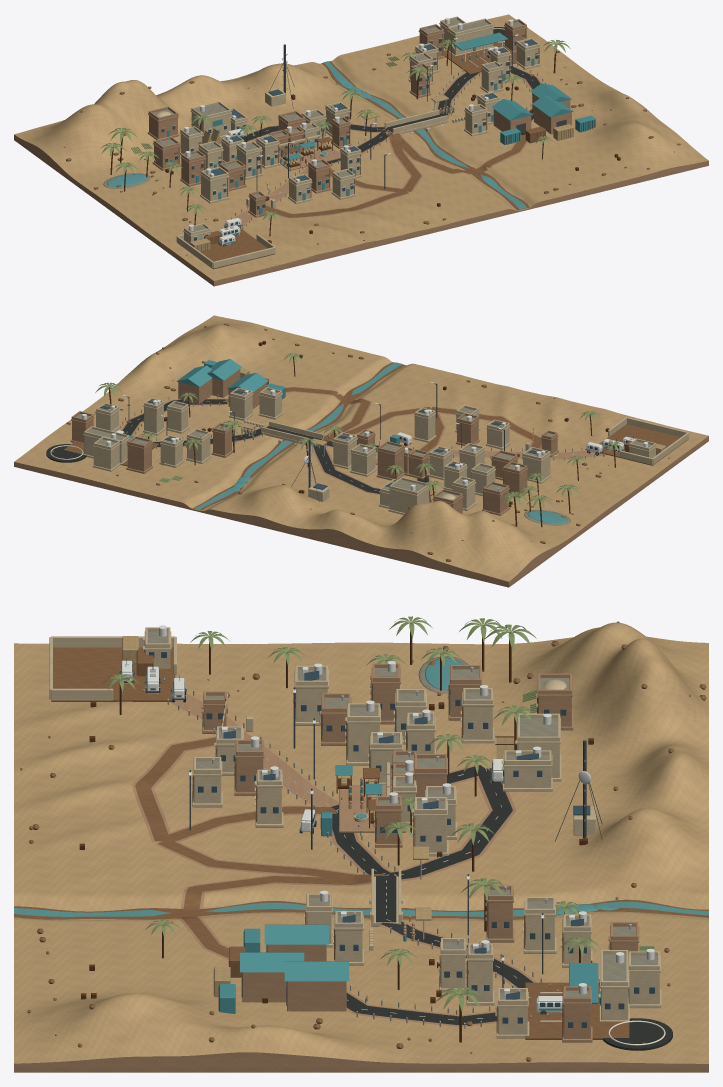
Rendered from LastMileMap.fbx.
3 renders of one model, top to bottom at view 1: azimuth 30°, elevation 25°; view 2: azimuth 150°, elevation 25°; view 3: azimuth 270°, elevation 25°, orthographic. The views are drawn at different scales.
Visible parts, largest first — view 1: LM_STATIC_Terrain_LM_Sand, LM_STATIC_LM_Plaster, LM_STATIC_LM_WarmPlaster, LM_STATIC_LM_Clay, LM_STATIC_Terrain_LM_WarmPlaster, LM_STATIC_LM_TealPaint, LM_STATIC_LM_Concrete, LM_STATIC_LM_Foliage, LM_STATIC_LM_Asphalt, LM_STATIC_LM_Water, LM_STATIC_LM_Glass, LM_STATIC_LM_Timber (+3 smaller); view 2: LM_STATIC_Terrain_LM_Sand, LM_STATIC_LM_Plaster, LM_STATIC_LM_WarmPlaster, LM_STATIC_Terrain_LM_WarmPlaster, LM_STATIC_LM_Clay, LM_STATIC_LM_Foliage, LM_STATIC_LM_Concrete, LM_STATIC_LM_Asphalt, LM_STATIC_LM_TealPaint, LM_STATIC_LM_Water, LM_STATIC_LM_AidIvory, LM_STATIC_LM_Timber (+1 smaller); view 3: LM_STATIC_Terrain_LM_Sand, LM_STATIC_LM_Plaster, LM_STATIC_LM_WarmPlaster, LM_STATIC_LM_Clay, LM_STATIC_Terrain_LM_WarmPlaster, LM_STATIC_LM_Asphalt, LM_STATIC_LM_Concrete, LM_STATIC_LM_TealPaint, LM_STATIC_LM_Foliage, LM_STATIC_LM_Glass, LM_STATIC_LM_Water, LM_STATIC_LM_AidIvory (+4 smaller).
Boxes of the visible parts, x1=… form: LM_STATIC_Terrain_LM_Sand: x1=14, y1=14, x2=708, y2=280; LM_STATIC_LM_Plaster: x1=156, y1=16, x2=540, y2=268; LM_STATIC_LM_WarmPlaster: x1=147, y1=19, x2=572, y2=251; LM_STATIC_LM_Clay: x1=64, y1=29, x2=680, y2=269; LM_STATIC_Terrain_LM_WarmPlaster: x1=14, y1=134, x2=708, y2=286; LM_STATIC_LM_TealPaint: x1=167, y1=32, x2=595, y2=239; LM_STATIC_LM_Concrete: x1=103, y1=19, x2=545, y2=235; LM_STATIC_LM_Foliage: x1=100, y1=39, x2=570, y2=221; LM_STATIC_LM_Asphalt: x1=243, y1=27, x2=540, y2=163; LM_STATIC_LM_Water: x1=107, y1=61, x2=526, y2=209; LM_STATIC_LM_Glass: x1=161, y1=39, x2=538, y2=240; LM_STATIC_LM_Timber: x1=110, y1=43, x2=620, y2=243; LM_STATIC_Terrain_LM_Sand: x1=14, y1=315, x2=708, y2=581; LM_STATIC_LM_Plaster: x1=83, y1=387, x2=688, y2=514; LM_STATIC_LM_WarmPlaster: x1=70, y1=369, x2=607, y2=515; LM_STATIC_Terrain_LM_WarmPlaster: x1=14, y1=436, x2=708, y2=587; LM_STATIC_LM_Clay: x1=51, y1=323, x2=687, y2=561; LM_STATIC_LM_Foliage: x1=95, y1=353, x2=623, y2=508; LM_STATIC_LM_Concrete: x1=76, y1=389, x2=651, y2=525; LM_STATIC_LM_Asphalt: x1=46, y1=399, x2=430, y2=497; LM_STATIC_LM_TealPaint: x1=129, y1=359, x2=435, y2=450; LM_STATIC_LM_Water: x1=195, y1=362, x2=567, y2=523; LM_STATIC_LM_AidIvory: x1=82, y1=382, x2=648, y2=490; LM_STATIC_LM_Timber: x1=108, y1=341, x2=615, y2=527; LM_STATIC_Terrain_LM_Sand: x1=14, y1=622, x2=708, y2=1063; LM_STATIC_LM_Plaster: x1=49, y1=627, x2=661, y2=1038; LM_STATIC_LM_WarmPlaster: x1=122, y1=638, x2=639, y2=1042; LM_STATIC_LM_Clay: x1=14, y1=621, x2=708, y2=1061; LM_STATIC_Terrain_LM_WarmPlaster: x1=14, y1=1052, x2=708, y2=1072; LM_STATIC_LM_Asphalt: x1=331, y1=765, x2=672, y2=1050; LM_STATIC_LM_Concrete: x1=143, y1=631, x2=657, y2=1031; LM_STATIC_LM_TealPaint: x1=193, y1=696, x2=628, y2=1033; LM_STATIC_LM_Foliage: x1=102, y1=616, x2=654, y2=1011; LM_STATIC_LM_Glass: x1=144, y1=641, x2=654, y2=1027; LM_STATIC_LM_Water: x1=14, y1=657, x2=708, y2=916; LM_STATIC_LM_AidIvory: x1=158, y1=625, x2=654, y2=1012.
Bounding box in the file's own units: 40 × 5.19 × 28.
Materials: 19 (8 with a texture image).
